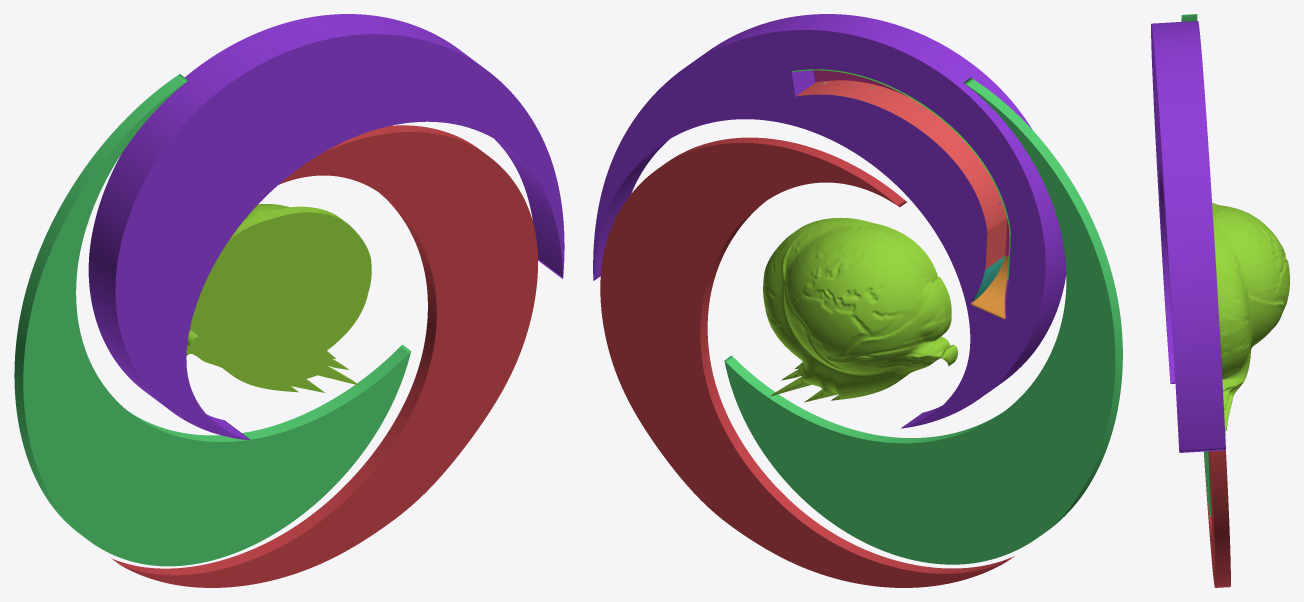
Rendered from corridor.glb.
3 renders of one model, left to right at view 1: azimuth 30°, elevation 25°; view 2: azimuth 150°, elevation 25°; view 3: azimuth 270°, elevation 25°, orthographic. The views are drawn at different scales.
Visible parts, largest first — view 1: Swoosh • Blue__EXPORT, Swoosh • Orange__EXPORT, Swoosh • Red__EXPORT, Emblem • Eagle and Globe • Sculpted Bronze__EXPORT; view 2: Swoosh • Blue__EXPORT, Swoosh • Orange__EXPORT, Swoosh • Red__EXPORT, Emblem • Eagle and Globe • Sculpted Bronze__EXPORT, Connecting plane • joins yellow tip__EXPORT, Exit | Smooth stone to blue transition__EXPORT, Plain floor • red to connecting plane__EXPORT; view 3: Swoosh • Blue__EXPORT, Emblem • Eagle and Globe • Sculpted Bronze__EXPORT, Swoosh • Red__EXPORT, Swoosh • Orange__EXPORT.
Boxes of the visible parts, x1,y1,x2,y2 form: Swoosh • Blue__EXPORT: [88, 14, 564, 440]; Swoosh • Orange__EXPORT: [14, 74, 410, 566]; Swoosh • Red__EXPORT: [111, 125, 537, 587]; Emblem • Eagle and Globe • Sculpted Bronze__EXPORT: [186, 204, 371, 392]; Swoosh • Blue__EXPORT: [593, 14, 1066, 428]; Swoosh • Orange__EXPORT: [724, 77, 1122, 564]; Swoosh • Red__EXPORT: [600, 137, 1014, 587]; Emblem • Eagle and Globe • Sculpted Bronze__EXPORT: [763, 217, 957, 402]; Connecting plane • joins yellow tip__EXPORT: [796, 80, 1007, 269]; Exit | Smooth stone to blue transition__EXPORT: [971, 255, 1008, 319]; Plain floor • red to connecting plane__EXPORT: [814, 70, 1009, 256]; Swoosh • Blue__EXPORT: [1151, 21, 1225, 452]; Emblem • Eagle and Globe • Sculpted Bronze__EXPORT: [1212, 202, 1289, 436]; Swoosh • Red__EXPORT: [1203, 450, 1230, 587]; Swoosh • Orange__EXPORT: [1181, 14, 1211, 516].
Size of the model in its own units: 5.66 by 5.65 by 1.37.
